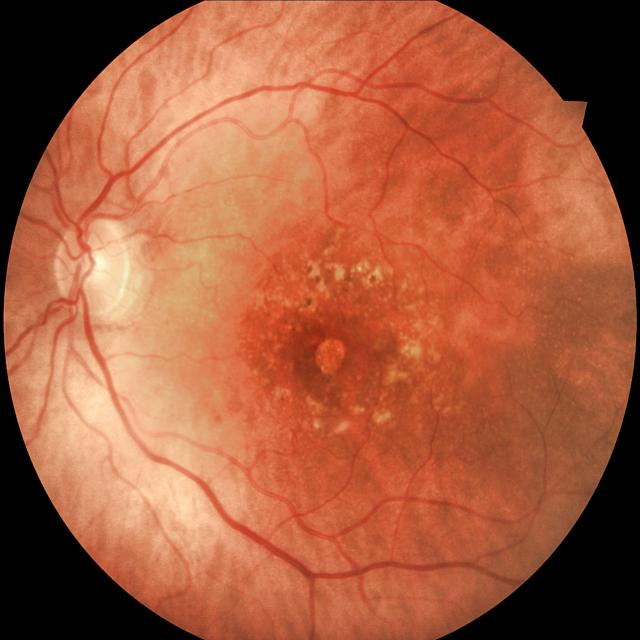OC: (78, 249, 105, 281)
OD: (53, 221, 129, 315)
